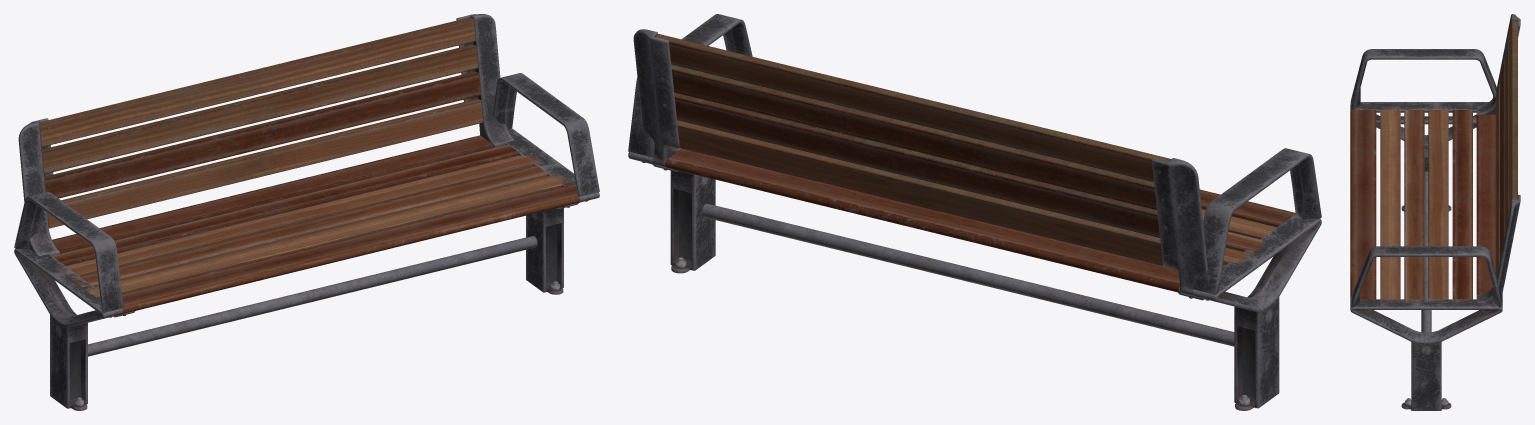
Rendered from street-bench.glb.
3 renders of one model, left to right at view 1: azimuth 30°, elevation 25°; view 2: azimuth 150°, elevation 25°; view 3: azimuth 270°, elevation 25°, orthographic. The views are drawn at different scales.
Parts seen in each view (by area): view 1: StreetBench; view 2: StreetBench; view 3: StreetBench.
Boxes of the visible parts, x1=… form: StreetBench: x1=14, y1=14, x2=599, y2=410; StreetBench: x1=628, y1=14, x2=1321, y2=410; StreetBench: x1=1350, y1=14, x2=1520, y2=410.
Bounding box in the file's own units: 1.92 × 0.8669 × 0.6704.
4 materials, 4 textured.
